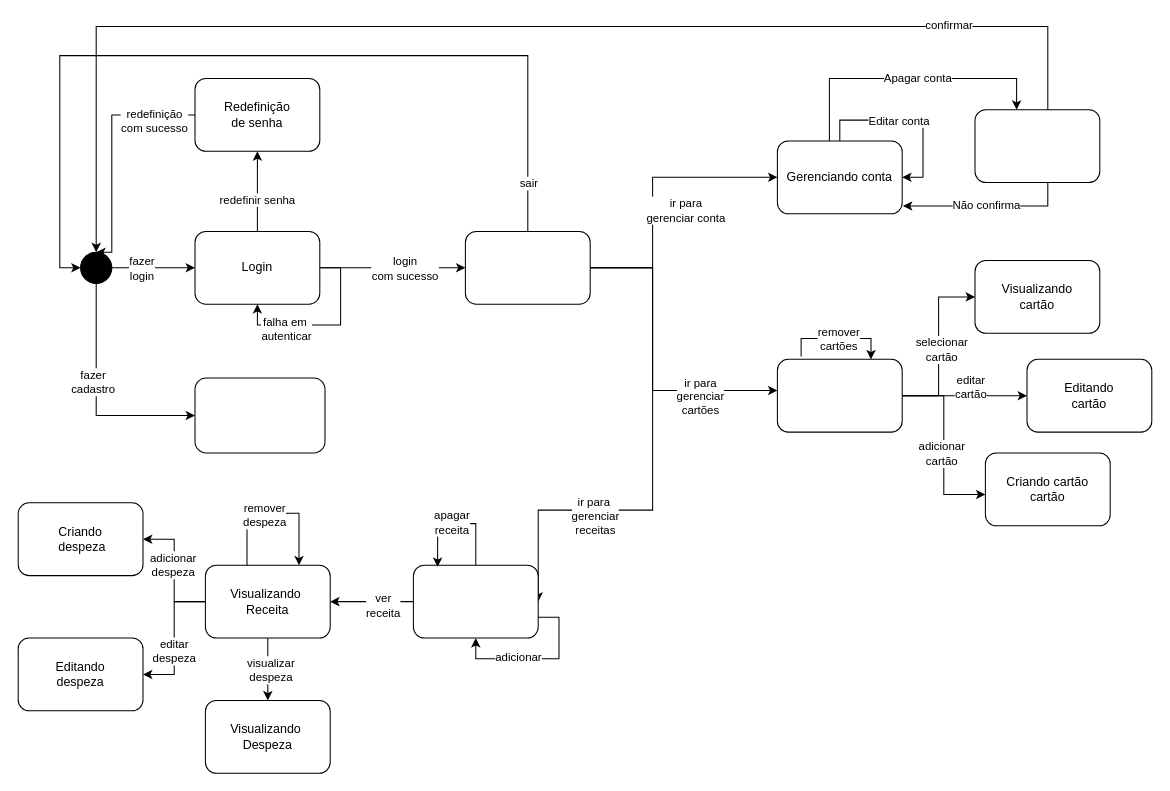
The diagram is 1170 pixels wide and 791 high, and some of its shapes have lost their labels. Here are the shapes that lost their labels. From the top down, the centre of each, then its label:
point 1037,146: Confirmar com senha e re-captcha
point 527,267: Menu principal
point 259,415: Cadastrando usuário
point 839,395: Gerenciando cartões
point 475,601: Gerenciando Receitas
